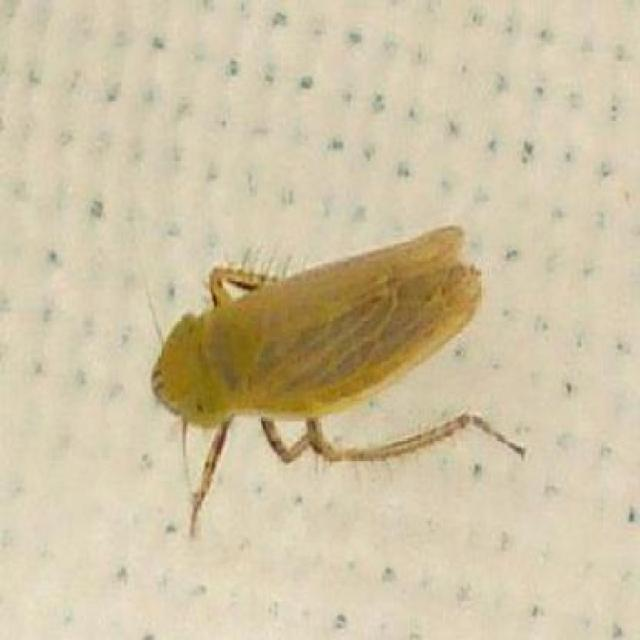green-leafhopper: (152, 175, 519, 537)
